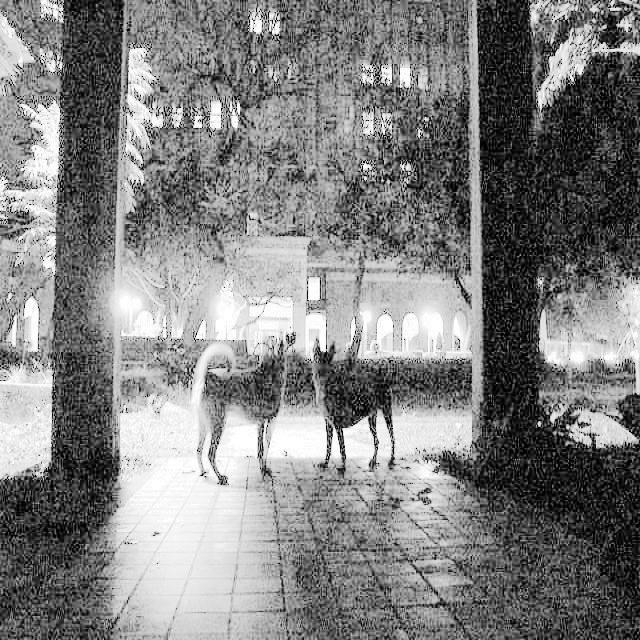Dog: (190, 332, 287, 490), (306, 336, 398, 474)
